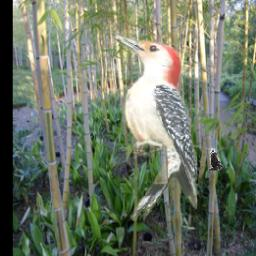Crow: (208, 149, 224, 171)
Woodpecker: (111, 32, 197, 221)
